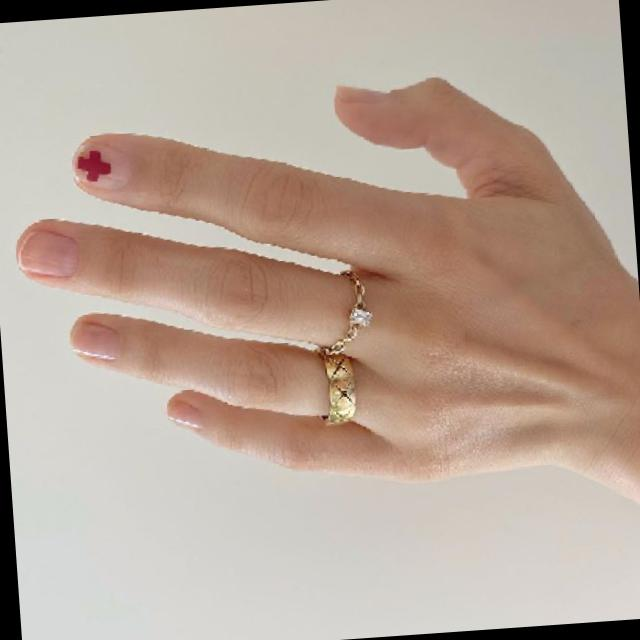Nail: (17, 228, 79, 276), (73, 143, 131, 189), (70, 319, 119, 358), (166, 395, 201, 428), (337, 84, 383, 101)
